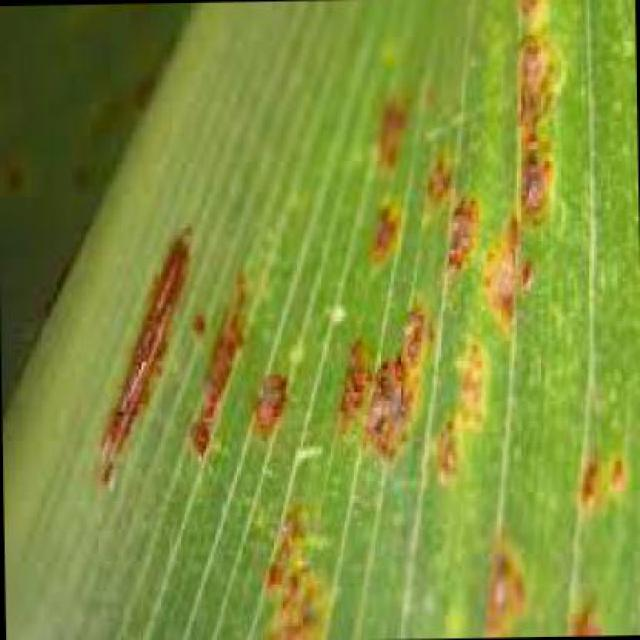Corn_Rust: (103, 0, 640, 634)
